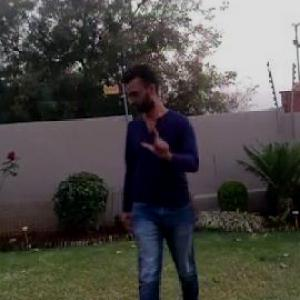land_hand: (138, 116, 171, 156)
